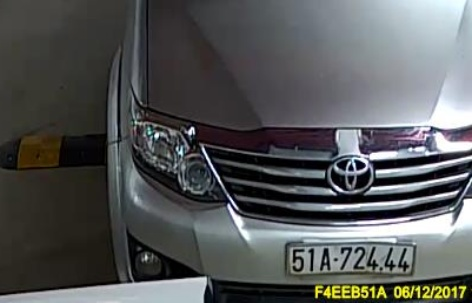plate: (283, 235, 418, 284)
